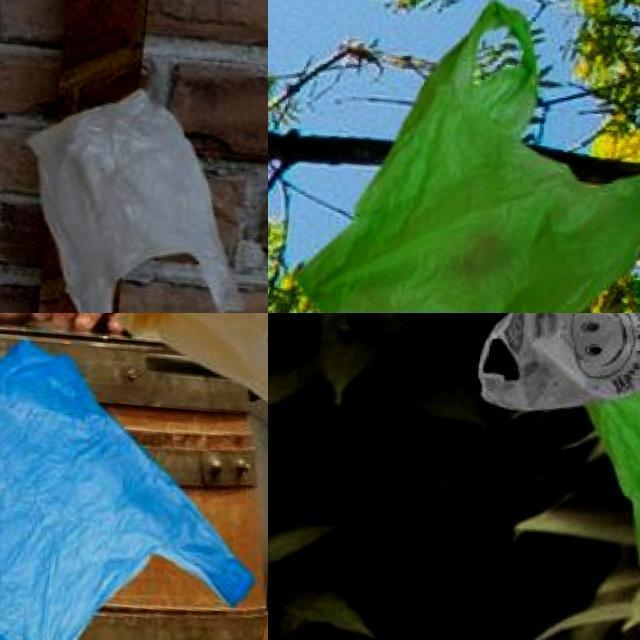waste: (289, 0, 640, 313), (0, 324, 268, 640), (25, 82, 251, 313), (502, 313, 640, 412)
